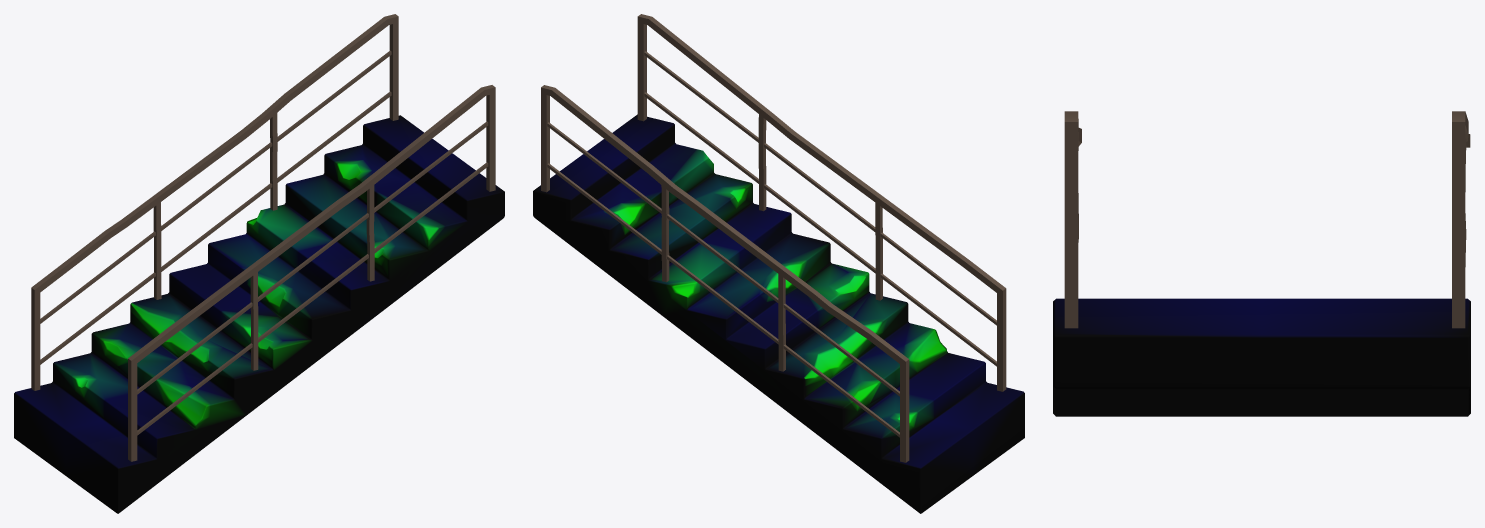
File: DBK_Stairs_Concrete_Short_Damage.FBX
The picture shows the model from 3 angles, left to right: view 1: azimuth 30°, elevation 25°; view 2: azimuth 150°, elevation 25°; view 3: azimuth 270°, elevation 25°; orthographic projection. The views are drawn at different scales.
Parts seen in each view (by area): view 1: DBK_Stairs_Concrete_Short_Damage, DBK_Stairs_Concrete_Short_Damage_Rail_R, DBK_Stairs_Concrete_Short_Damage_Rail_L; view 2: DBK_Stairs_Concrete_Short_Damage, DBK_Stairs_Concrete_Short_Damage_Rail_R, DBK_Stairs_Concrete_Short_Damage_Rail_L; view 3: DBK_Stairs_Concrete_Short_Damage, DBK_Stairs_Concrete_Short_Damage_Rail_R, DBK_Stairs_Concrete_Short_Damage_Rail_L.
Part boxes in pixels (x1,y1,x2,y2): DBK_Stairs_Concrete_Short_Damage: (14, 115, 504, 513); DBK_Stairs_Concrete_Short_Damage_Rail_R: (128, 85, 495, 461); DBK_Stairs_Concrete_Short_Damage_Rail_L: (31, 14, 398, 390); DBK_Stairs_Concrete_Short_Damage: (533, 114, 1024, 513); DBK_Stairs_Concrete_Short_Damage_Rail_R: (637, 14, 1006, 391); DBK_Stairs_Concrete_Short_Damage_Rail_L: (541, 85, 909, 462); DBK_Stairs_Concrete_Short_Damage: (1053, 298, 1470, 416); DBK_Stairs_Concrete_Short_Damage_Rail_R: (1064, 111, 1081, 328); DBK_Stairs_Concrete_Short_Damage_Rail_L: (1452, 111, 1470, 328).
Bounding box in the file's own units: 300 × 246 × 140.
